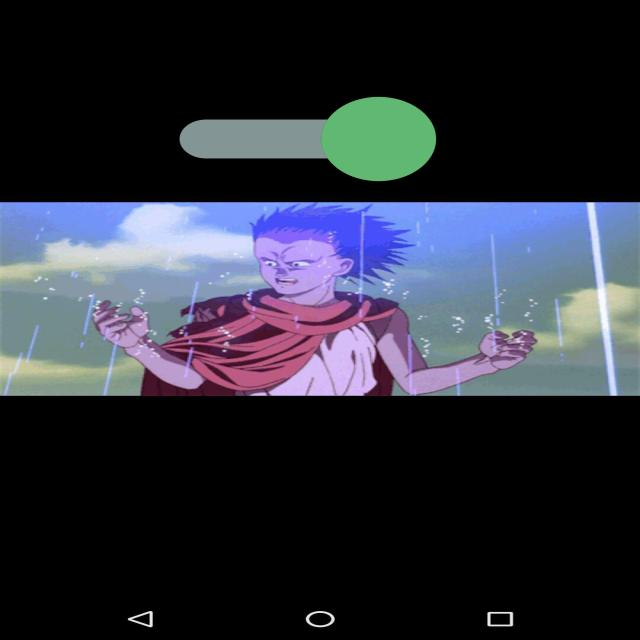social proof: (180, 45, 436, 233)
